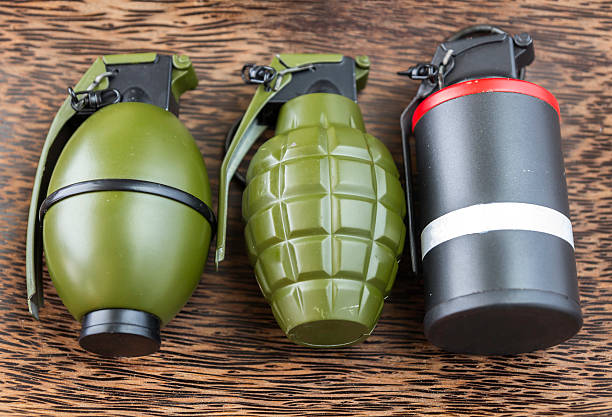e1: (396, 19, 585, 360), (218, 52, 404, 349), (18, 52, 215, 323)
